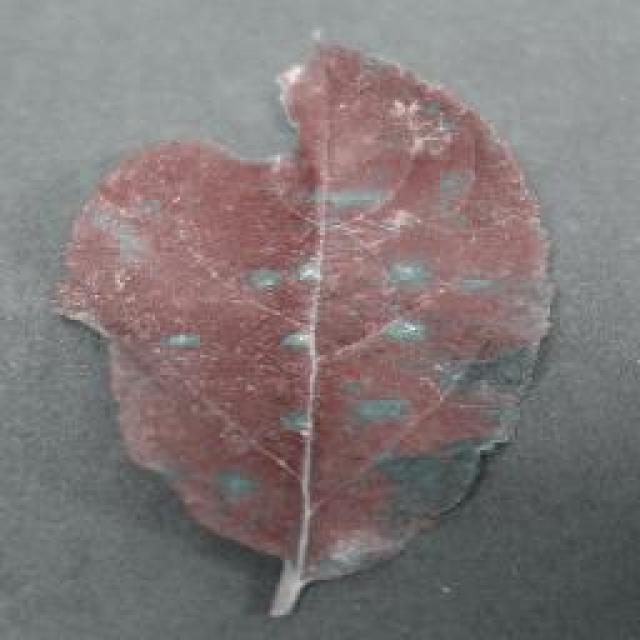apple cedar apple rust: (50, 35, 558, 615)
